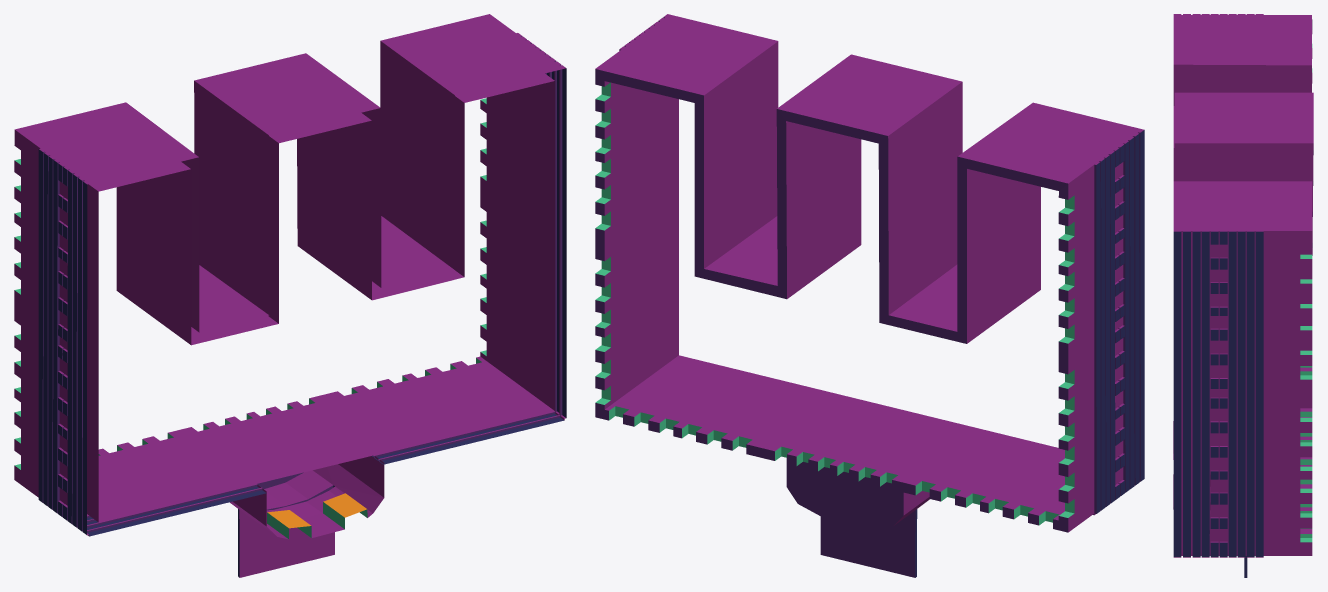
The model's file is Urząd Miejski Kilinskiego Tier 2.fbx.
The picture shows the model from 3 angles, left to right: view 1: azimuth 30°, elevation 25°; view 2: azimuth 150°, elevation 25°; view 3: azimuth 270°, elevation 25°; orthographic projection. The views are drawn at different scales.
Parts seen in each view (by area): view 1: Urzad_miejski_kilinskiego; view 2: Urzad_miejski_kilinskiego; view 3: Urzad_miejski_kilinskiego.
Boxes of the visible parts, x1,y1,x2,y2 form: Urzad_miejski_kilinskiego: (14, 14, 566, 577); Urzad_miejski_kilinskiego: (595, 14, 1144, 577); Urzad_miejski_kilinskiego: (1173, 14, 1313, 577).
Size of the model in its own units: 3.68 by 3.46 by 1.
